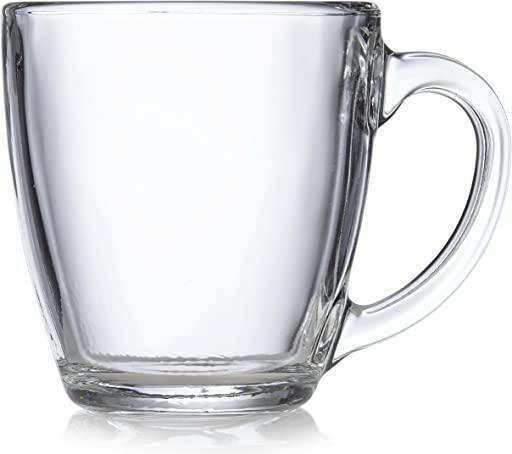glass-mug: (0, 0, 511, 424)
